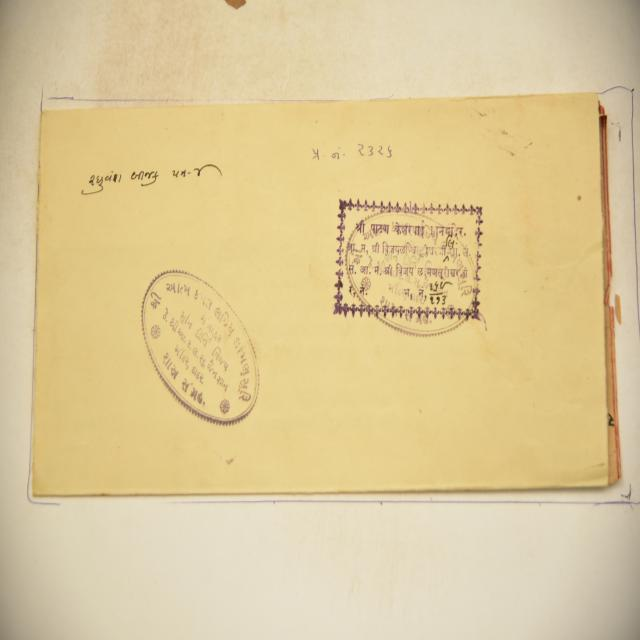text_paragraph: (34, 97, 616, 491)
